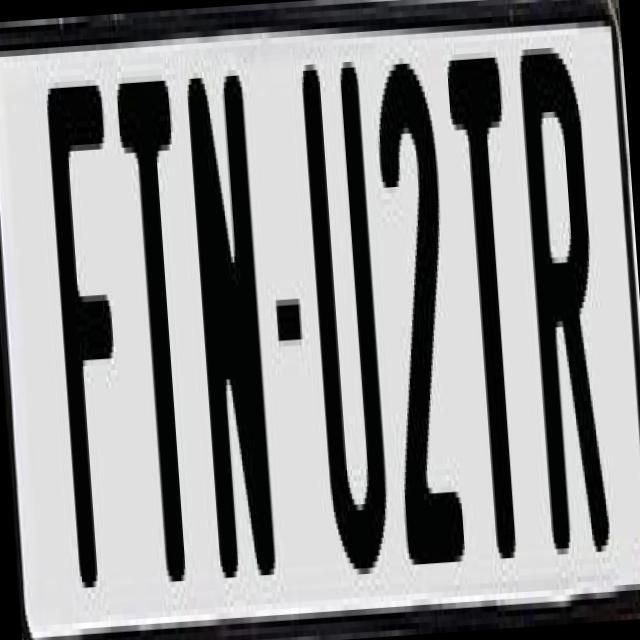2: (368, 50, 468, 559)
F: (45, 72, 143, 594)
N: (184, 68, 284, 607)
R: (514, 34, 608, 549)
T: (112, 68, 208, 582), (443, 57, 535, 560)
U: (294, 44, 394, 588)
